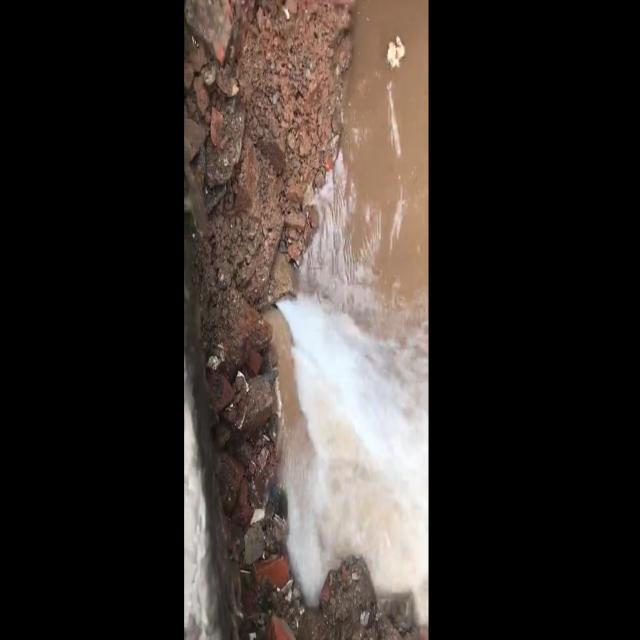leak: (279, 293, 428, 624)
